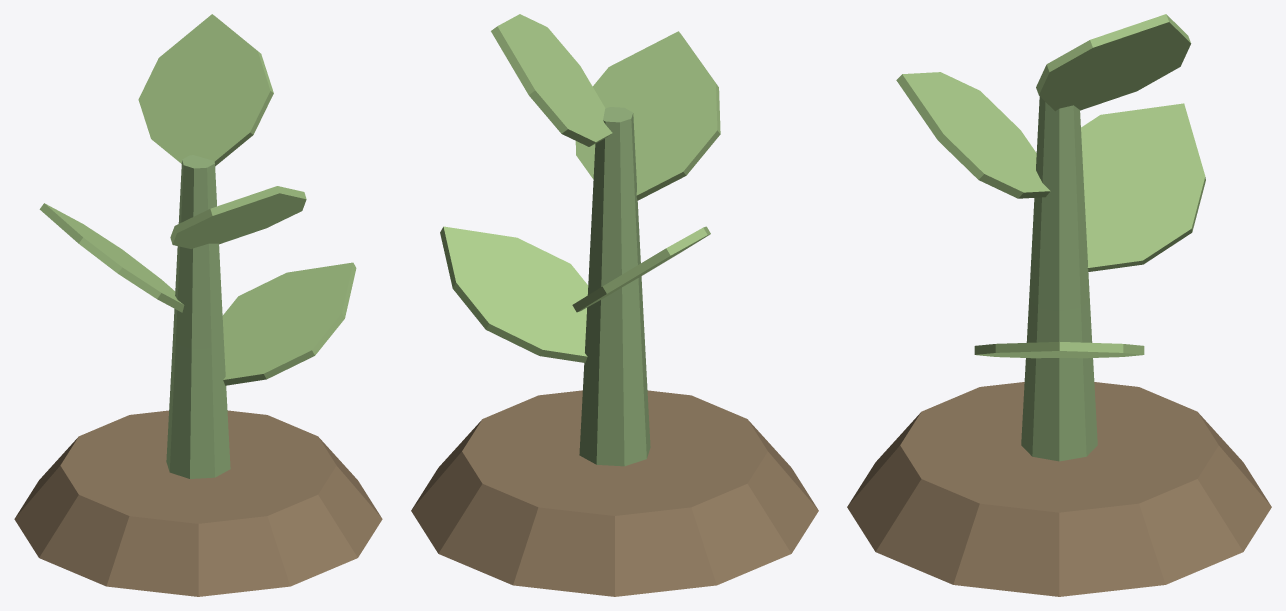
The model's file is 33-Agricultura_cultivo_creciendo.glb.
3 renders of one model, left to right at view 1: azimuth 30°, elevation 25°; view 2: azimuth 150°, elevation 25°; view 3: azimuth 270°, elevation 25°, orthographic. The views are drawn at different scales.
Parts seen in each view (by area): view 1: SM_Cultivo_M_Cultivo_Tierra, SM_Cultivo_M_Cultivo_Hoja, SM_Cultivo_M_Cultivo_Tallo; view 2: SM_Cultivo_M_Cultivo_Tierra, SM_Cultivo_M_Cultivo_Hoja, SM_Cultivo_M_Cultivo_Tallo; view 3: SM_Cultivo_M_Cultivo_Tierra, SM_Cultivo_M_Cultivo_Hoja, SM_Cultivo_M_Cultivo_Tallo.
Part boxes in pixels (x1=…): SM_Cultivo_M_Cultivo_Tierra: x1=14, y1=410, x2=382, y2=596; SM_Cultivo_M_Cultivo_Hoja: x1=39, y1=14, x2=356, y2=385; SM_Cultivo_M_Cultivo_Tallo: x1=166, y1=155, x2=230, y2=478; SM_Cultivo_M_Cultivo_Tierra: x1=411, y1=390, x2=818, y2=596; SM_Cultivo_M_Cultivo_Hoja: x1=440, y1=14, x2=720, y2=362; SM_Cultivo_M_Cultivo_Tallo: x1=579, y1=107, x2=650, y2=466; SM_Cultivo_M_Cultivo_Tierra: x1=847, y1=382, x2=1271, y2=596; SM_Cultivo_M_Cultivo_Hoja: x1=896, y1=14, x2=1205, y2=358; SM_Cultivo_M_Cultivo_Tallo: x1=1021, y1=96, x2=1097, y2=461.
Size of the model in its own units: 0.28 by 0.3831 by 0.28.
